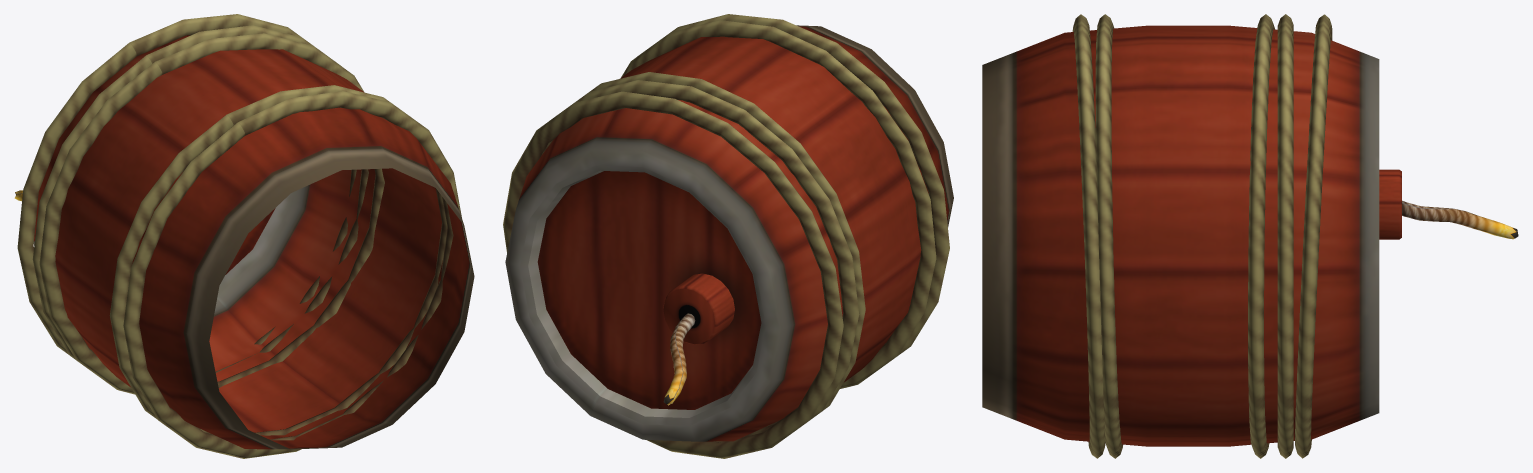
The model's file is Explosive_Barrel.FBX.
The picture shows the model from 3 angles, left to right: view 1: azimuth 30°, elevation 25°; view 2: azimuth 150°, elevation 25°; view 3: azimuth 270°, elevation 25°; orthographic projection. The views are drawn at different scales.
Visible parts, largest first — view 1: Object009; view 2: Object009; view 3: Object009.
Boxes of the visible parts, x1,y1,x2,y2 form: Object009: (14, 14, 474, 458); Object009: (503, 14, 953, 458); Object009: (982, 14, 1518, 458).
Size of the model in its own units: 0.9344 by 0.9332 by 1.12.
